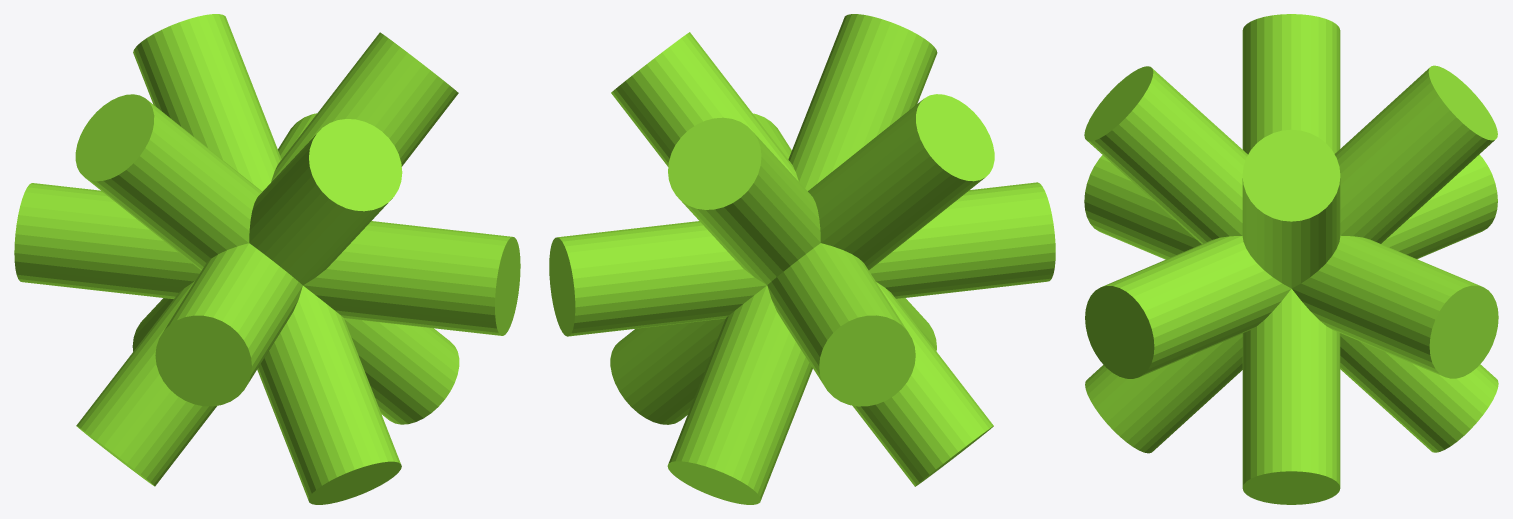
The model's file is Virus.fbx.
The picture shows the model from 3 angles, left to right: view 1: azimuth 30°, elevation 25°; view 2: azimuth 150°, elevation 25°; view 3: azimuth 270°, elevation 25°; orthographic projection. The views are drawn at different scales.
Parts seen in each view (by area): view 1: Cylinder.001; view 2: Cylinder.001; view 3: Cylinder.001.
Part boxes in pixels (x1,y1,x2,y2): Cylinder.001: [14, 14, 520, 504]; Cylinder.001: [549, 14, 1055, 504]; Cylinder.001: [1084, 14, 1498, 504].
Size of the model in its own units: 521 by 521 by 521.
